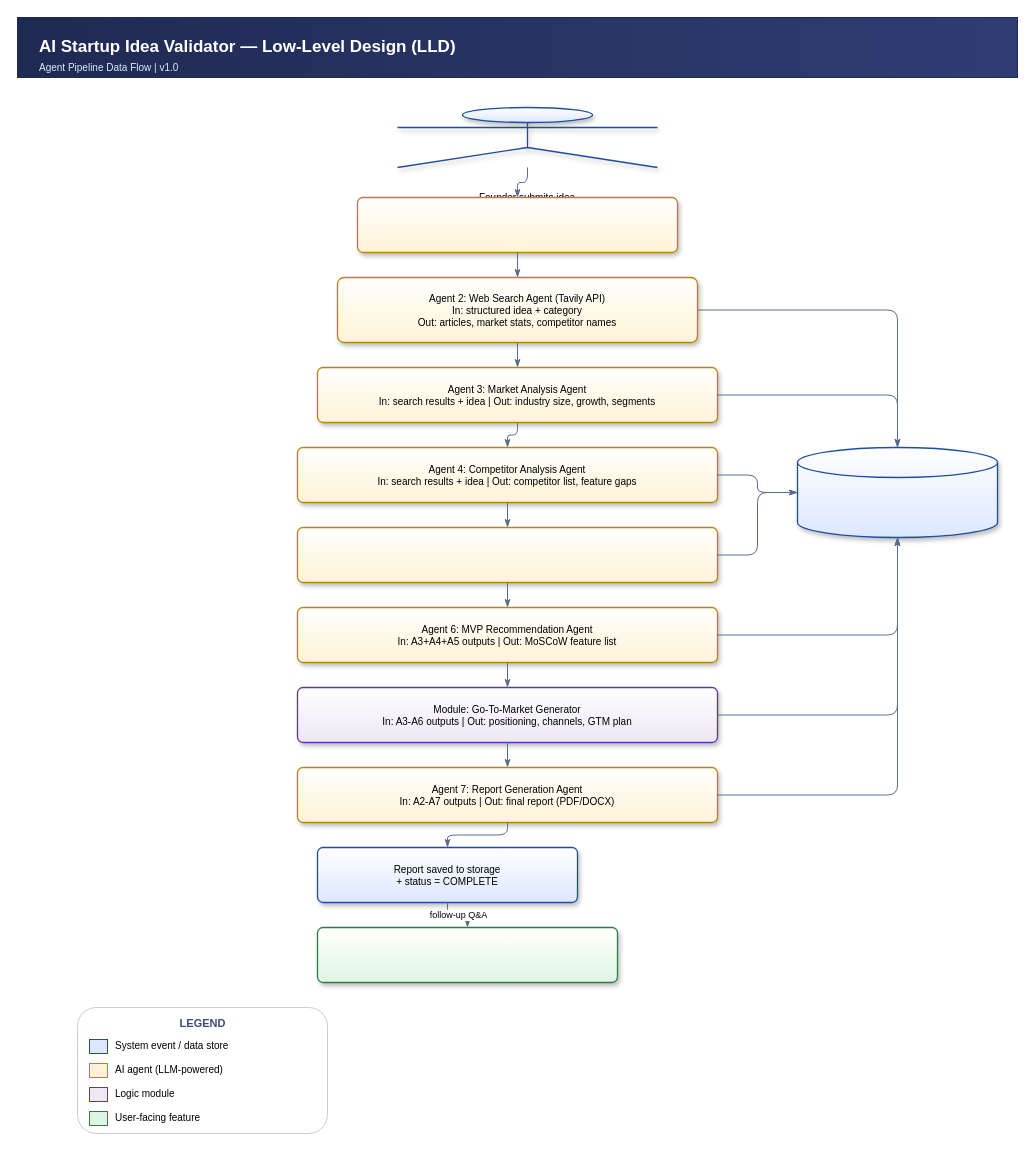
This 1035x1151 diagram has some shape labels left out. Here are the shapes that lost their labels. From the top down, the centre of each, then its label:
pixel 518 226: Agent 1: Idea Structuring LLM extracts problem, solution, target_user, category
pixel 898 493: Write each stage's JSON to agent_outputs table (idea_id, agent_name, output, ts)
pixel 508 556: Agent 5: SWOT & Risk Agent In: A3 + A4 outputs | Out: SWOT + risk score
pixel 468 956: Conversational Advisor (RAG over report + outputs)
